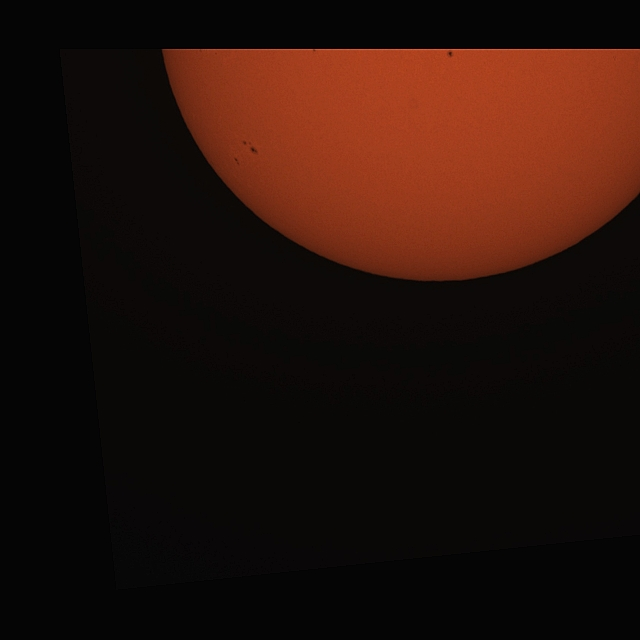sunspot: (243, 140, 258, 155), (446, 51, 454, 58), (234, 156, 240, 165)
